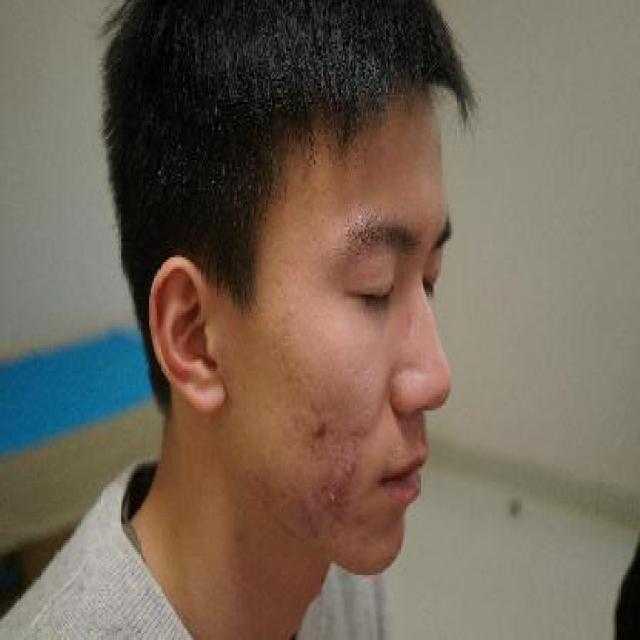dark spot: (305, 415, 332, 445)
nodules: (322, 448, 358, 510), (294, 489, 326, 543)
